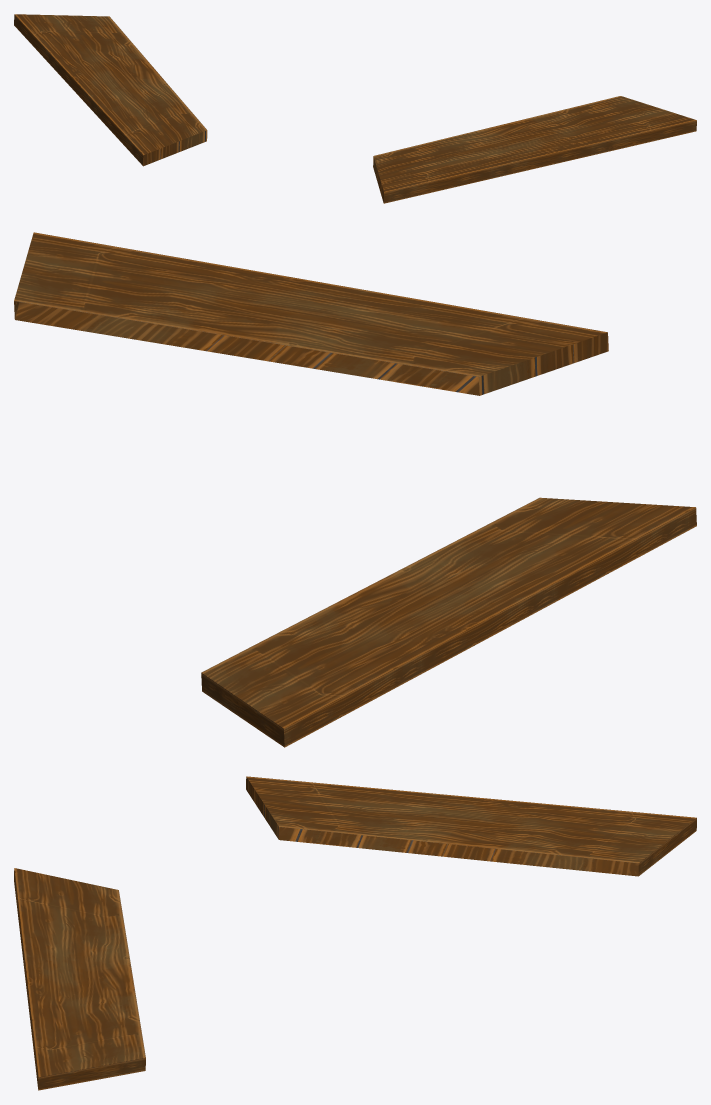
3 renders of one model, top to bottom at view 1: azimuth 30°, elevation 25°; view 2: azimuth 150°, elevation 25°; view 3: azimuth 270°, elevation 25°, orthographic. The views are drawn at different scales.
Visible parts, largest first — view 1: Cube.727; view 2: Cube.727; view 3: Cube.727.
Boxes of the visible parts, bbox=[...] form: Cube.727: bbox=[14, 14, 696, 203]; Cube.727: bbox=[14, 232, 696, 747]; Cube.727: bbox=[14, 776, 696, 1090].
Size of the model in its own units: 2322 by 133 by 2391.
Materials: 1 (1 with a texture image).
